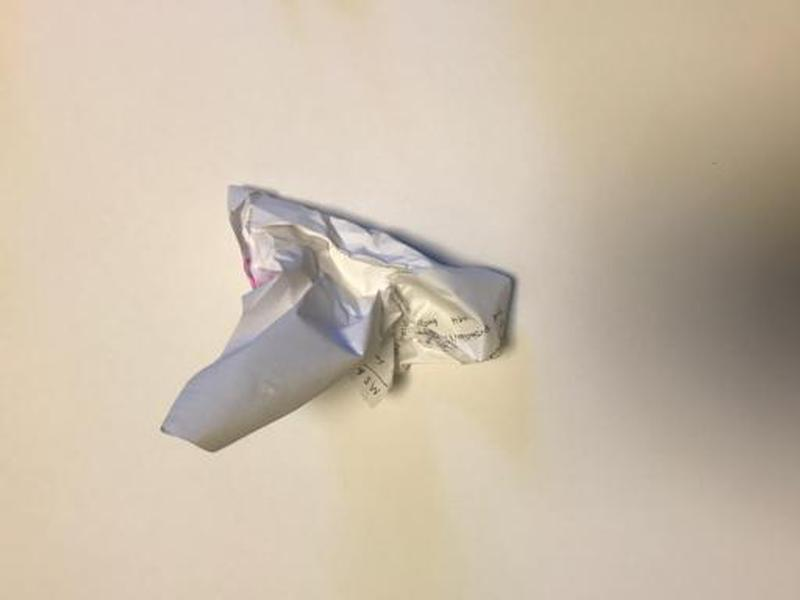paper: (153, 179, 518, 455)
